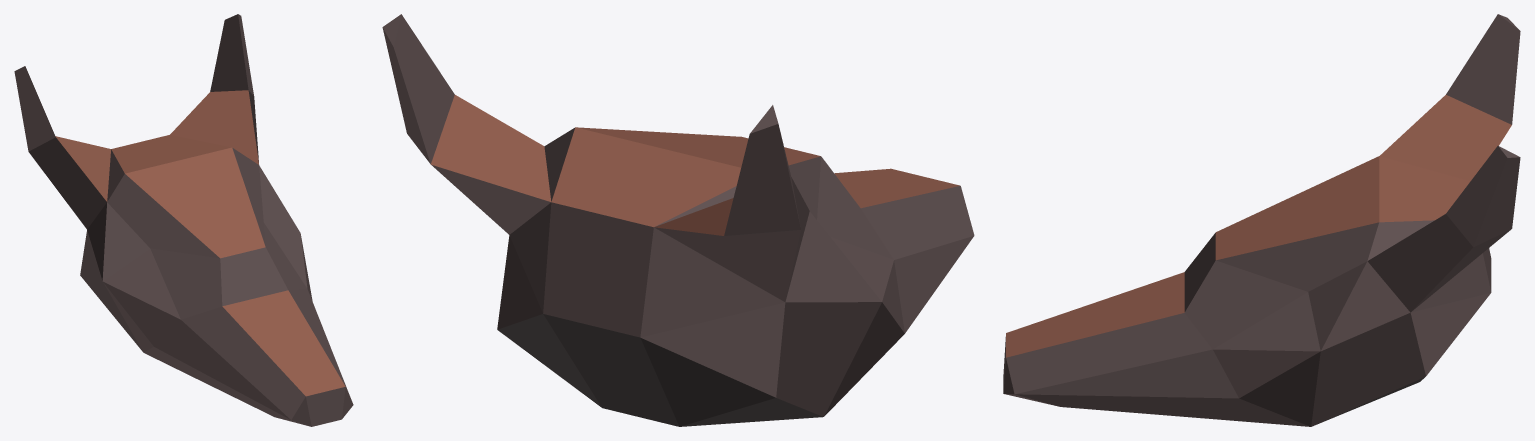
File: TB_D_Env_BoneA_C.FBX
The picture shows the model from 3 angles, left to right: view 1: azimuth 30°, elevation 25°; view 2: azimuth 150°, elevation 25°; view 3: azimuth 270°, elevation 25°; orthographic projection. The views are drawn at different scales.
Visible parts, largest first — view 1: TB_D_Env_BoneA_C; view 2: TB_D_Env_BoneA_C; view 3: TB_D_Env_BoneA_C.
Boxes of the visible parts, x1=… form: TB_D_Env_BoneA_C: x1=14, y1=14, x2=353, y2=426; TB_D_Env_BoneA_C: x1=382, y1=14, x2=974, y2=426; TB_D_Env_BoneA_C: x1=1003, y1=14, x2=1520, y2=426.
Bounding box in the file's own units: 1.88 × 1.93 × 2.93.
